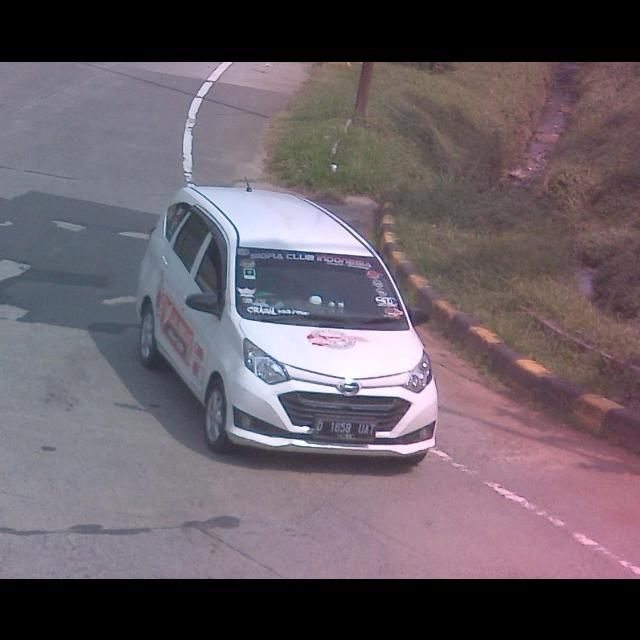plate: (316, 413, 376, 439)
